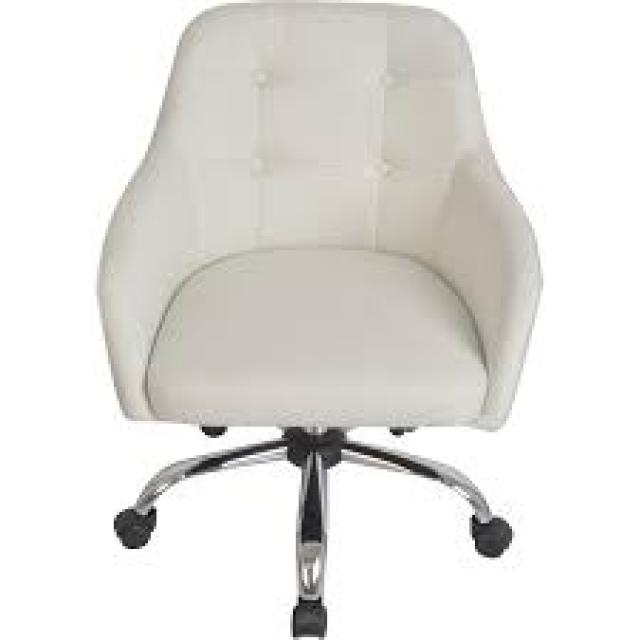chair: (55, 0, 617, 640)
